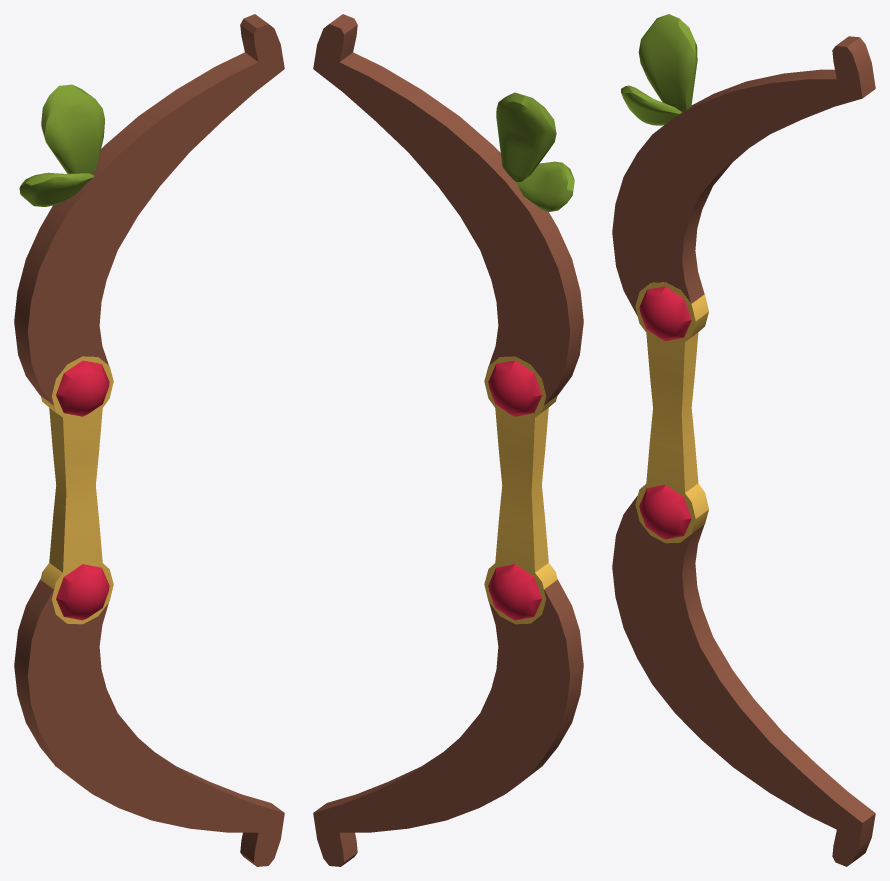
File: bow.fbx
The picture shows the model from 3 angles, left to right: view 1: azimuth 30°, elevation 25°; view 2: azimuth 150°, elevation 25°; view 3: azimuth 330°, elevation 25°; orthographic projection. The views are drawn at different scales.
Visible parts, largest first — view 1: Plane; view 2: Plane; view 3: Plane.
Part boxes in pixels (x1=…): Plane: x1=14, y1=14, x2=284, y2=866; Plane: x1=313, y1=14, x2=583, y2=866; Plane: x1=612, y1=14, x2=875, y2=866.
Bounding box in the file's own units: 87.17 × 273 × 20.05.
2 materials, 2 textured.
